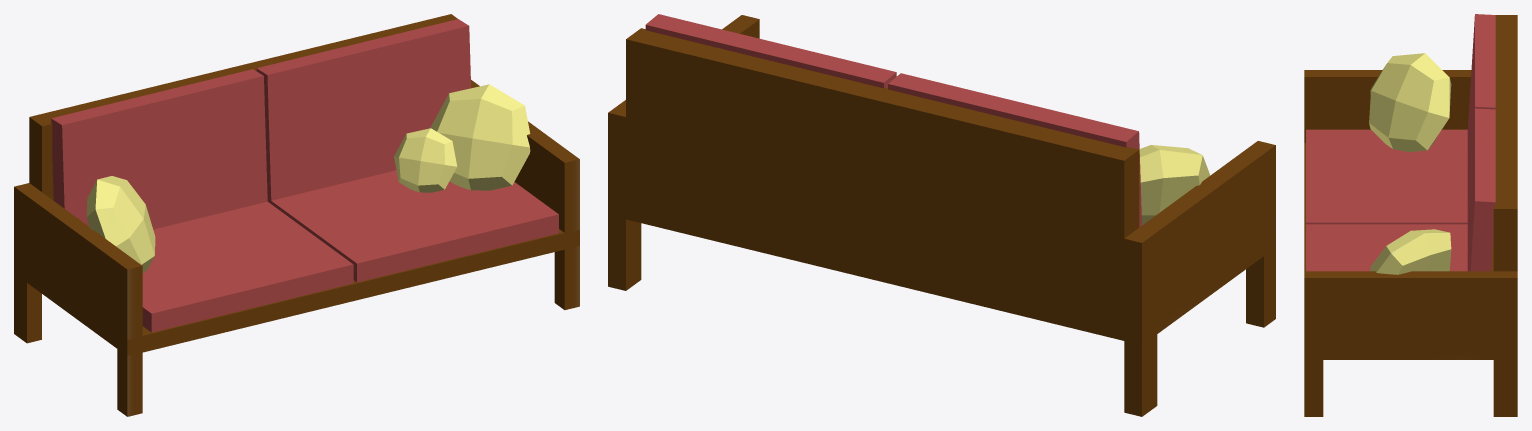
The model's file is Couch.fbx.
The picture shows the model from 3 angles, left to right: view 1: azimuth 30°, elevation 25°; view 2: azimuth 150°, elevation 25°; view 3: azimuth 270°, elevation 25°; orthographic projection. The views are drawn at different scales.
Parts seen in each view (by area): view 1: Couch; view 2: Couch; view 3: Couch.
Part boxes in pixels (box(x1,y1,x2,y2)): Couch: box(14, 14, 579, 416); Couch: box(608, 14, 1275, 416); Couch: box(1304, 14, 1517, 416).
Size of the model in its own units: 284 by 132 by 123.
Materials: 3 (3 with a texture image).
